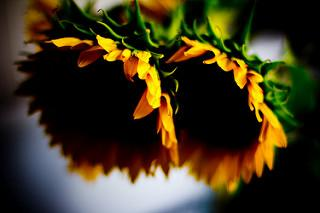sunflower: (11, 4, 175, 179), (164, 35, 297, 192)
